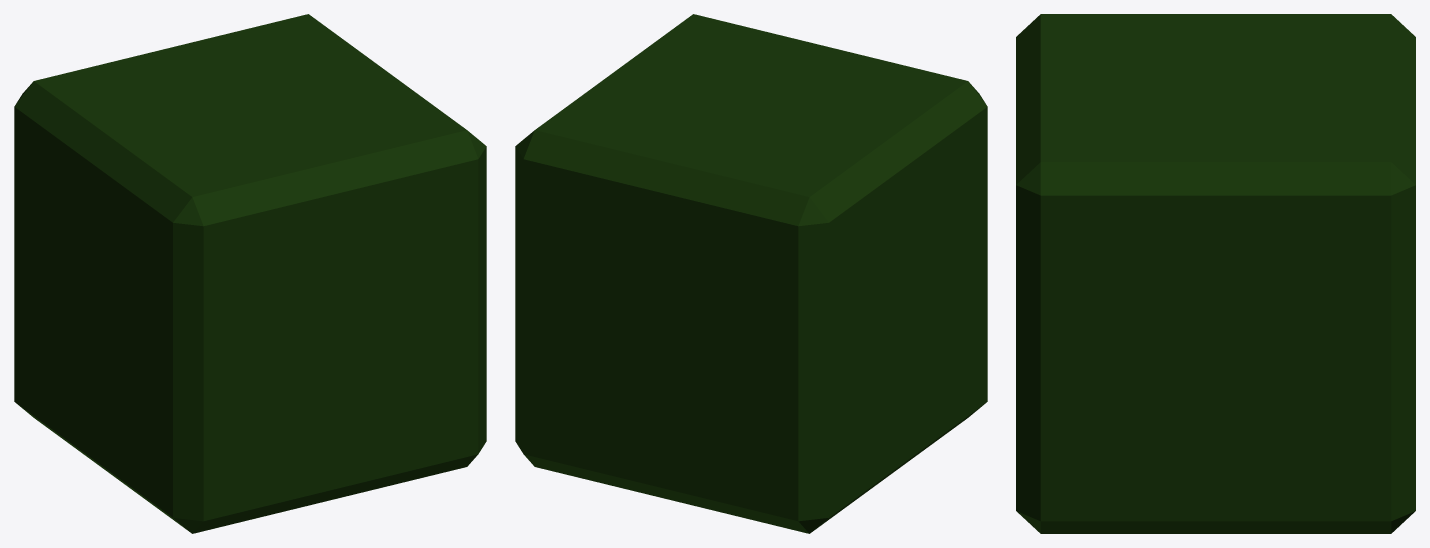
File: Container_low.FBX
3 renders of one model, left to right at view 1: azimuth 30°, elevation 25°; view 2: azimuth 150°, elevation 25°; view 3: azimuth 270°, elevation 25°, orthographic. The views are drawn at different scales.
Parts seen in each view (by area): view 1: Container_low; view 2: Container_low; view 3: Container_low.
Boxes of the visible parts, <box> form: Container_low: <box>14,14,486,533</box>; Container_low: <box>515,14,987,533</box>; Container_low: <box>1016,14,1415,533</box>.
Bounding box in the file's own units: 1.33 × 1.36 × 1.33.
